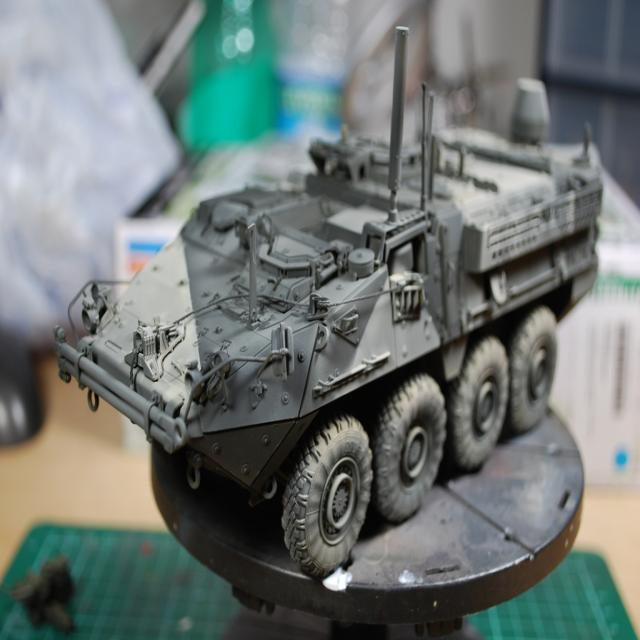tank: (52, 22, 604, 578)
